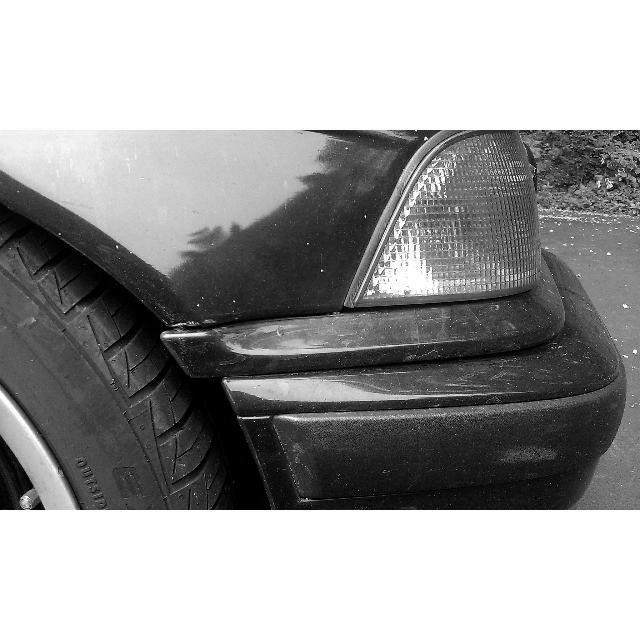fender-dent: (59, 130, 473, 498)
